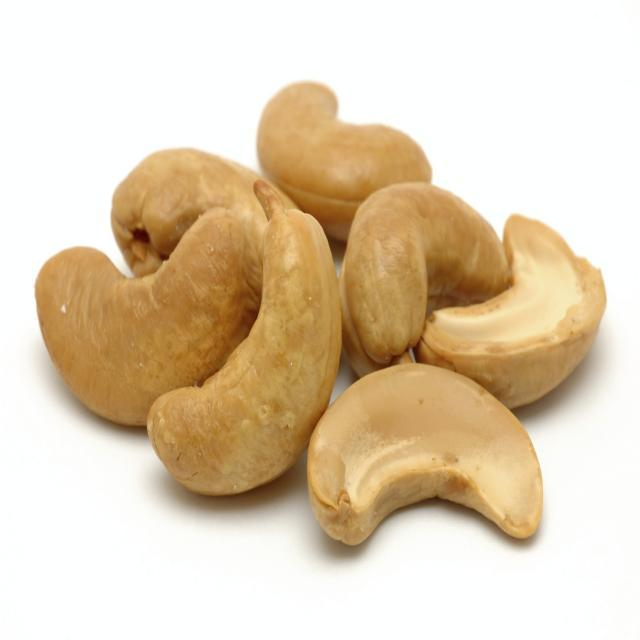Frutta secca: (44, 74, 610, 554)
